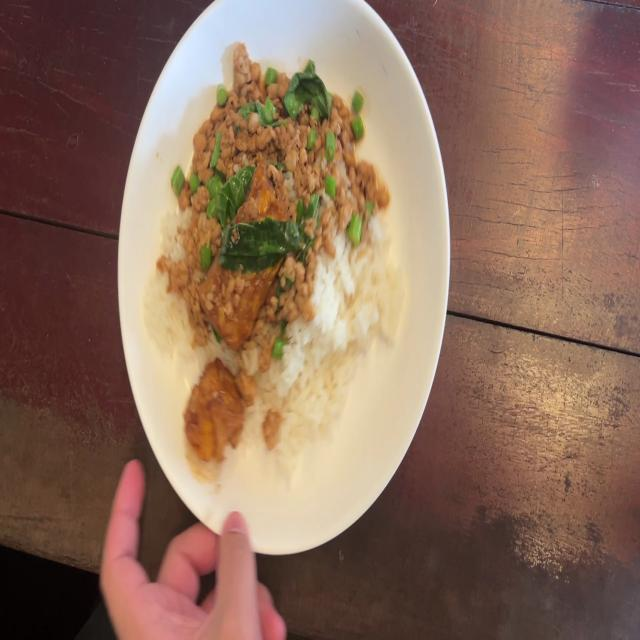01rice: (269, 324, 364, 446), (318, 233, 403, 365)
fried_tofo: (206, 176, 294, 334), (188, 362, 234, 464)
minced_pork: (217, 37, 365, 172), (174, 71, 218, 339), (299, 159, 394, 235), (297, 183, 321, 320)
stir_fried_basil: (158, 34, 406, 482)
